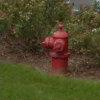Hydrant: (35, 15, 81, 76)
